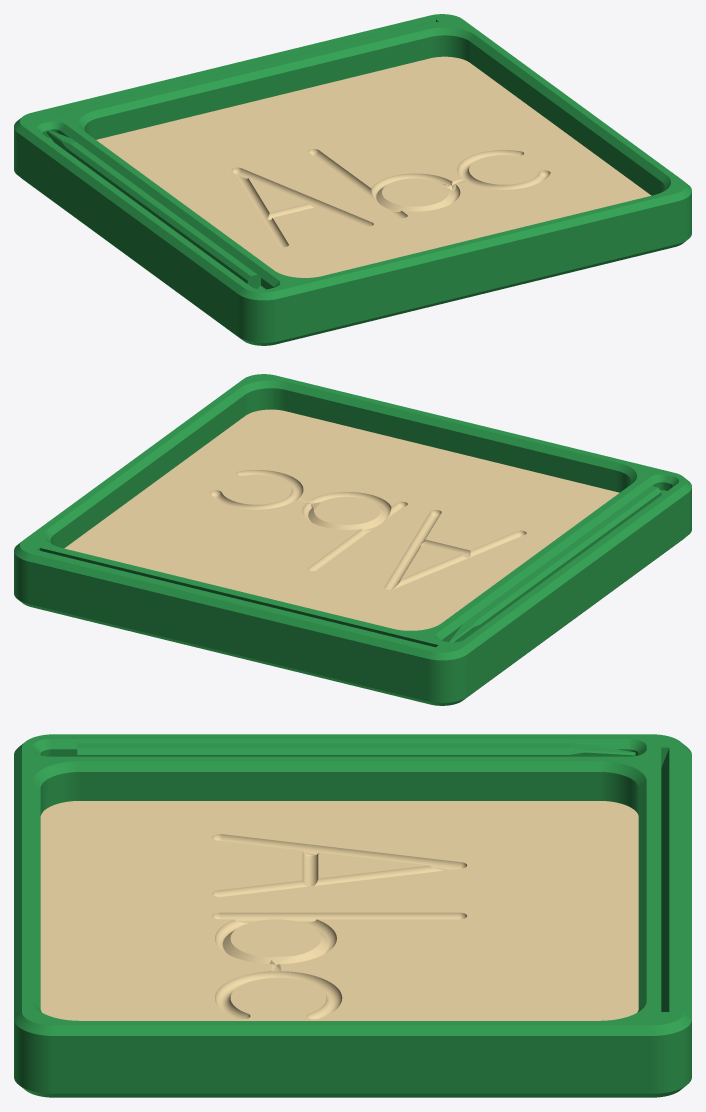
The model's file is piskovnice.glb.
3 views of the same model, one above another, from view 1: azimuth 30°, elevation 25°; view 2: azimuth 150°, elevation 25°; view 3: azimuth 270°, elevation 25° (orthographic). The views are drawn at different scales.
Parts seen in each view (by area): view 1: deska, pisek, pero; view 2: deska, pisek, pero; view 3: pisek, deska, pero.
Boxes of the visible parts, left/top/right/bottom form: deska: left=14, top=14, right=691, bottom=345; pisek: left=96, top=56, right=650, bottom=277; pero: left=47, top=130, right=260, bottom=288; deska: left=14, top=374, right=691, bottom=705; pisek: left=64, top=409, right=619, bottom=630; pero: left=448, top=486, right=661, bottom=642; pisek: left=40, top=801, right=638, bottom=1020; deska: left=14, top=734, right=691, bottom=1097; pero: left=77, top=743, right=635, bottom=756.
Size of the model in its own units: 0.265 by 0.0306 by 0.255.
